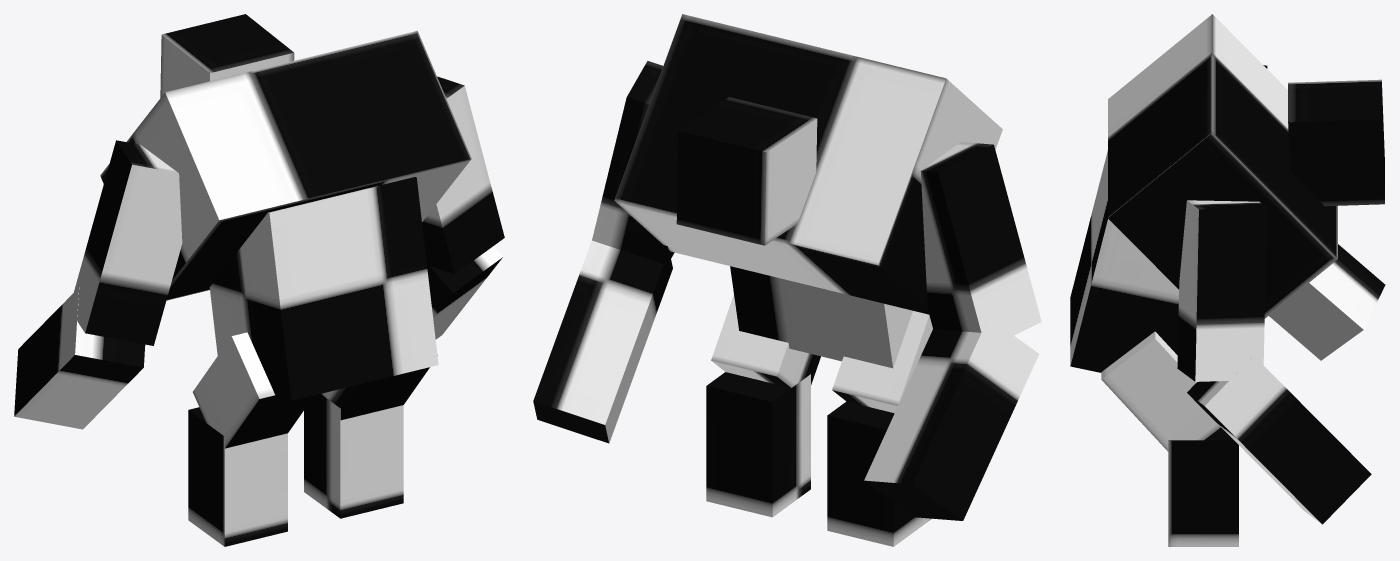
The picture shows the model from 3 angles, left to right: view 1: azimuth 30°, elevation 25°; view 2: azimuth 150°, elevation 25°; view 3: azimuth 270°, elevation 25°; orthographic projection. The views are drawn at different scales.
Parts seen in each view (by area): view 1: f06ec097-993d-d507-8836-422ce41e0c9d, a5005ec6-6316-be86-faf3-52ede2f19e26, d2e70e84-ad3f-5c73-42c4-6184ef13af23, e828b936-5995-12a1-e596-0356dc7a3123, 8c643c76-fff2-e85f-459d-477bce69b644, b23bfb7f-592c-84b0-f6ab-158bf86a0a7d, 6c735c67-f6ed-12ce-64ef-cf0b94e57a4e, 13777d90-8a7f-e7c7-cdc7-530836529fd2, ee474c1f-556e-68c3-606b-5aab663dce88, c19e51b6-e700-c920-43fa-7fd89c03b6be, dc7f8bf0-042f-eb11-d6a9-dada224c0939; view 2: f06ec097-993d-d507-8836-422ce41e0c9d, e828b936-5995-12a1-e596-0356dc7a3123, d2e70e84-ad3f-5c73-42c4-6184ef13af23, ee474c1f-556e-68c3-606b-5aab663dce88, c19e51b6-e700-c920-43fa-7fd89c03b6be, b23bfb7f-592c-84b0-f6ab-158bf86a0a7d, a5005ec6-6316-be86-faf3-52ede2f19e26, 8c643c76-fff2-e85f-459d-477bce69b644, 6c735c67-f6ed-12ce-64ef-cf0b94e57a4e, dc7f8bf0-042f-eb11-d6a9-dada224c0939, 13777d90-8a7f-e7c7-cdc7-530836529fd2; view 3: f06ec097-993d-d507-8836-422ce41e0c9d, 6c735c67-f6ed-12ce-64ef-cf0b94e57a4e, c19e51b6-e700-c920-43fa-7fd89c03b6be, a5005ec6-6316-be86-faf3-52ede2f19e26, ee474c1f-556e-68c3-606b-5aab663dce88, b23bfb7f-592c-84b0-f6ab-158bf86a0a7d, dc7f8bf0-042f-eb11-d6a9-dada224c0939, e828b936-5995-12a1-e596-0356dc7a3123.
Boxes of the visible parts, x1=… form: f06ec097-993d-d507-8836-422ce41e0c9d: x1=100, y1=30, x2=471, y2=300; a5005ec6-6316-be86-faf3-52ede2f19e26: x1=209, y1=177, x2=438, y2=400; d2e70e84-ad3f-5c73-42c4-6184ef13af23: x1=74, y1=140, x2=182, y2=345; e828b936-5995-12a1-e596-0356dc7a3123: x1=14, y1=287, x2=145, y2=429; 8c643c76-fff2-e85f-459d-477bce69b644: x1=188, y1=407, x2=287, y2=546; b23bfb7f-592c-84b0-f6ab-158bf86a0a7d: x1=304, y1=393, x2=403, y2=518; 6c735c67-f6ed-12ce-64ef-cf0b94e57a4e: x1=422, y1=76, x2=504, y2=273; 13777d90-8a7f-e7c7-cdc7-530836529fd2: x1=193, y1=332, x2=314, y2=448; ee474c1f-556e-68c3-606b-5aab663dce88: x1=160, y1=14, x2=294, y2=97; c19e51b6-e700-c920-43fa-7fd89c03b6be: x1=426, y1=246, x2=502, y2=339; dc7f8bf0-042f-eb11-d6a9-dada224c0939: x1=322, y1=353, x2=438, y2=420; f06ec097-993d-d507-8836-422ce41e0c9d: x1=614, y1=14, x2=1002, y2=314; e828b936-5995-12a1-e596-0356dc7a3123: x1=864, y1=317, x2=1038, y2=520; d2e70e84-ad3f-5c73-42c4-6184ef13af23: x1=920, y1=142, x2=1041, y2=335; ee474c1f-556e-68c3-606b-5aab663dce88: x1=676, y1=97, x2=817, y2=245; c19e51b6-e700-c920-43fa-7fd89c03b6be: x1=533, y1=240, x2=672, y2=443; b23bfb7f-592c-84b0-f6ab-158bf86a0a7d: x1=706, y1=372, x2=810, y2=517; a5005ec6-6316-be86-faf3-52ede2f19e26: x1=730, y1=266, x2=912, y2=368; 8c643c76-fff2-e85f-459d-477bce69b644: x1=827, y1=401, x2=931, y2=546; 6c735c67-f6ed-12ce-64ef-cf0b94e57a4e: x1=592, y1=61, x2=674, y2=264; dc7f8bf0-042f-eb11-d6a9-dada224c0939: x1=711, y1=295, x2=820, y2=387; 13777d90-8a7f-e7c7-cdc7-530836529fd2: x1=832, y1=311, x2=932, y2=413; f06ec097-993d-d507-8836-422ce41e0c9d: x1=1108, y1=14, x2=1337, y2=318; 6c735c67-f6ed-12ce-64ef-cf0b94e57a4e: x1=1177, y1=200, x2=1266, y2=381; c19e51b6-e700-c920-43fa-7fd89c03b6be: x1=1187, y1=356, x2=1371, y2=524; a5005ec6-6316-be86-faf3-52ede2f19e26: x1=1070, y1=150, x2=1178, y2=372; ee474c1f-556e-68c3-606b-5aab663dce88: x1=1288, y1=79, x2=1384, y2=206; b23bfb7f-592c-84b0-f6ab-158bf86a0a7d: x1=1168, y1=427, x2=1238, y2=546; dc7f8bf0-042f-eb11-d6a9-dada224c0939: x1=1101, y1=331, x2=1220, y2=451; e828b936-5995-12a1-e596-0356dc7a3123: x1=1269, y1=244, x2=1385, y2=360.
Size of the model in its own units: 252 by 254 by 168.
